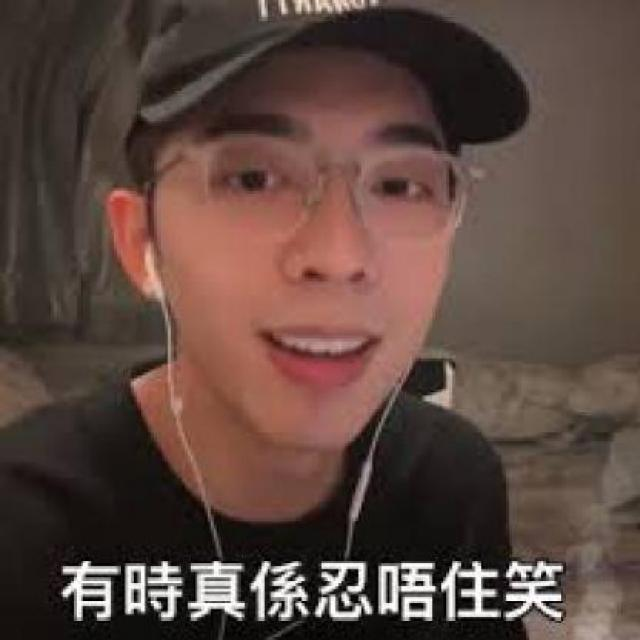Glasses: (184, 123, 478, 260)
